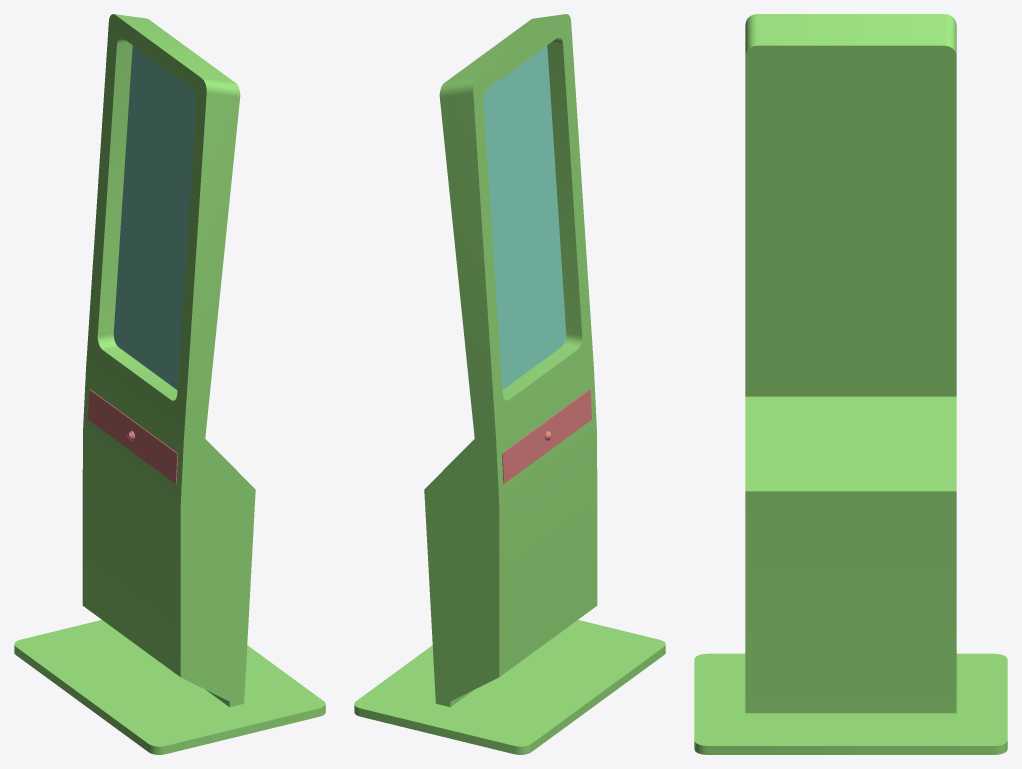
The model's file is Pantalla_CoreLab.fbx.
3 views of the same model, side by side, from view 1: azimuth 30°, elevation 25°; view 2: azimuth 150°, elevation 25°; view 3: azimuth 270°, elevation 25° (orthographic). The views are drawn at different scales.
Parts seen in each view (by area): view 1: Base, Pantalla, Cajon; view 2: Base, Pantalla, Cajon; view 3: Base.
Boxes of the visible parts, x1,y1,x2,y2 form: Base: [14, 14, 325, 754]; Pantalla: [113, 45, 196, 389]; Cajon: [88, 389, 177, 483]; Base: [354, 14, 665, 754]; Pantalla: [483, 45, 566, 389]; Cajon: [502, 389, 591, 483]; Base: [694, 14, 1007, 754].
Bounding box in the file's own units: 0.9415 × 1.35 × 3.28.
